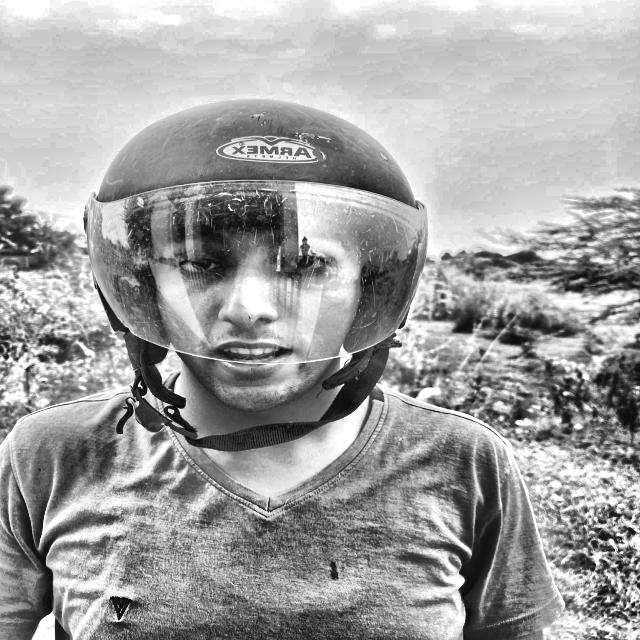Helmet: (75, 102, 438, 451)
